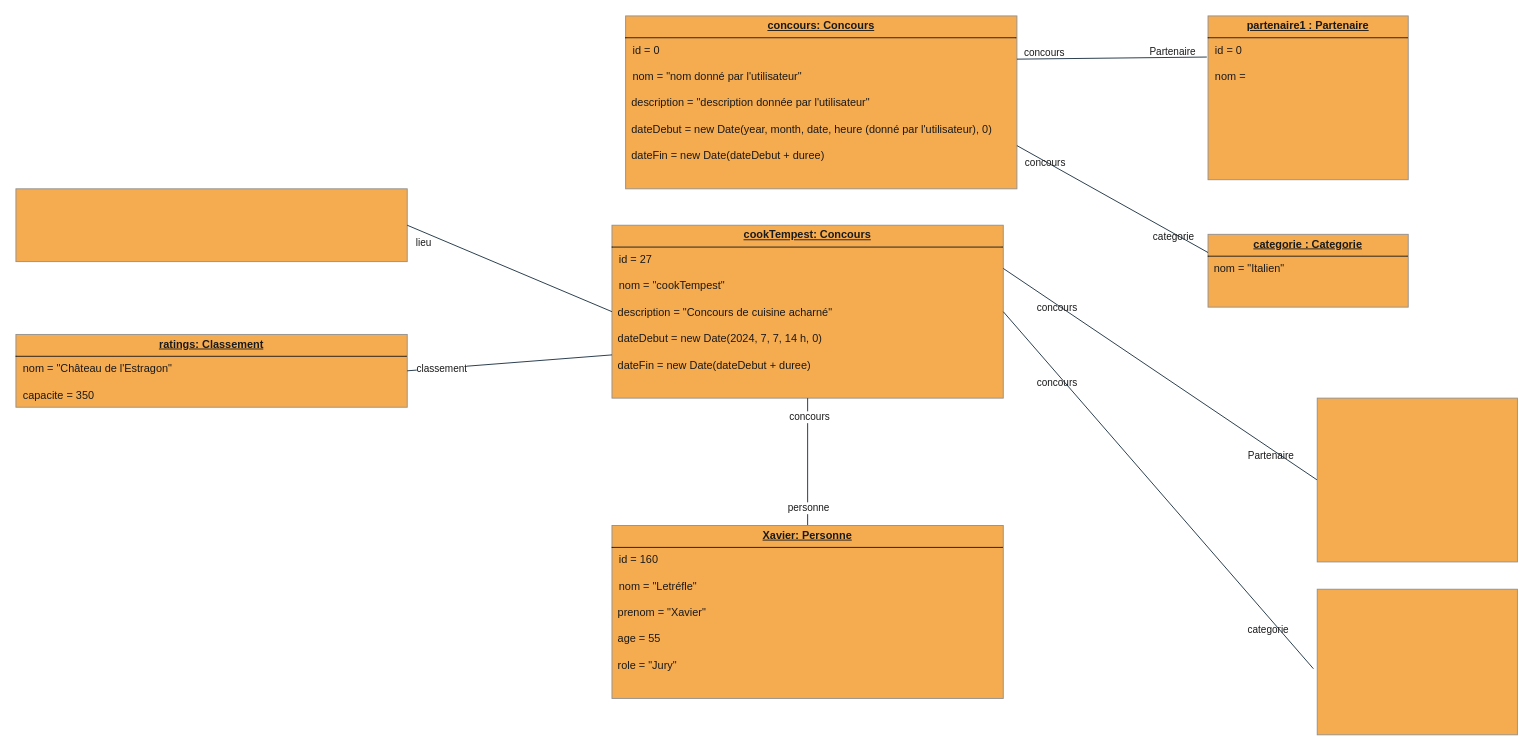
The diagram is 1533 pixels wide and 751 high, and some of its shapes have lost their labels. Each missing label, with the box of its shape:
categorieIt :Categorie nom = "Italien" sous-catégories = ["pâtes", "spaghetti"]: (1316, 588, 1517, 735)
cookPlace: Lieu nom = "Château de l'Estragon" capacite = 350: (15, 188, 407, 262)
partenaire1 : Partenaire id = 333 nom = "Tefal" contribution = contraintes =: (1316, 397, 1517, 562)
